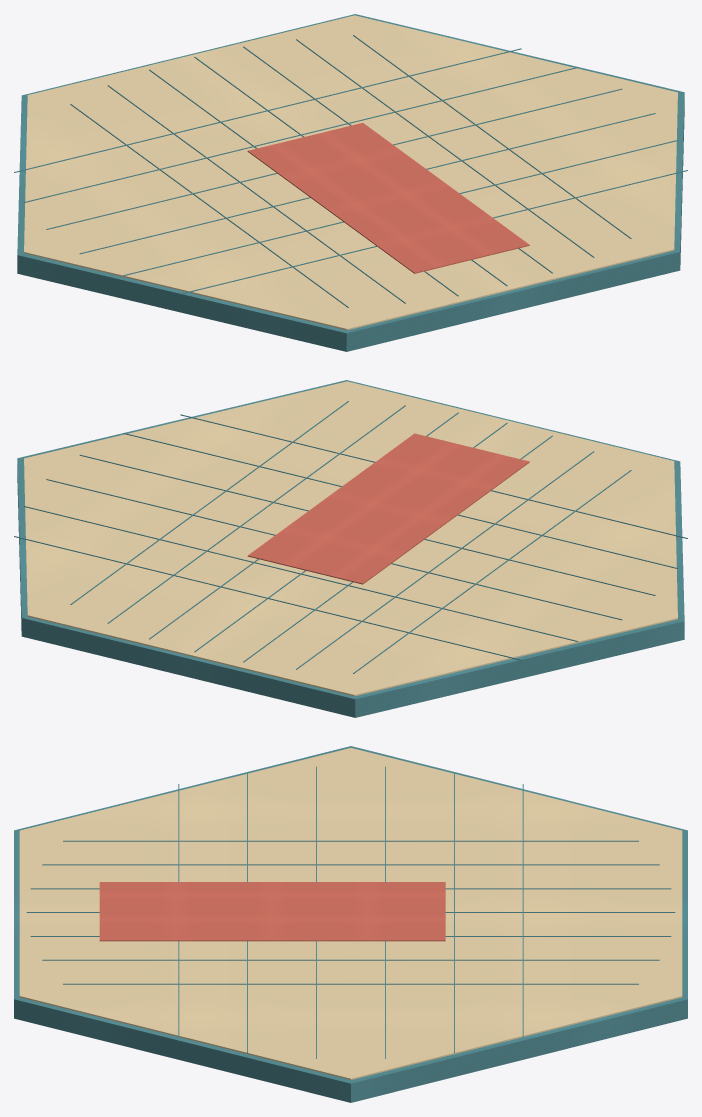
File: atlas100-s075-a07.lod2.glb
The picture shows the model from 3 angles, top to bottom: view 1: azimuth 30°, elevation 25°; view 2: azimuth 150°, elevation 25°; view 3: azimuth 270°, elevation 25°; orthographic projection. The views are drawn at different scales.
Parts seen in each view (by area): view 1: atlas100-s075-a07:part-001, atlas100-s075-a07:part-021, atlas100-s075-a07:part-000, atlas100-s075-a07:part-015, atlas100-s075-a07:part-014, atlas100-s075-a07:part-017, atlas100-s075-a07:part-016, atlas100-s075-a07:part-018, atlas100-s075-a07:part-019, atlas100-s075-a07:part-005, atlas100-s075-a07:part-009, atlas100-s075-a07:part-004 (+1 smaller); view 2: atlas100-s075-a07:part-001, atlas100-s075-a07:part-021, atlas100-s075-a07:part-000, atlas100-s075-a07:part-015, atlas100-s075-a07:part-014, atlas100-s075-a07:part-016, atlas100-s075-a07:part-017, atlas100-s075-a07:part-018, atlas100-s075-a07:part-019, atlas100-s075-a07:part-005, atlas100-s075-a07:part-009, atlas100-s075-a07:part-010 (+1 smaller); view 3: atlas100-s075-a07:part-001, atlas100-s075-a07:part-021, atlas100-s075-a07:part-000, atlas100-s075-a07:part-009, atlas100-s075-a07:part-005, atlas100-s075-a07:part-004, atlas100-s075-a07:part-010, atlas100-s075-a07:part-006.
Boxes of the visible parts, x1=… form: atlas100-s075-a07:part-001: x1=24, y1=15, x2=677, y2=330; atlas100-s075-a07:part-021: x1=247, y1=123, x2=529, y2=273; atlas100-s075-a07:part-000: x1=17, y1=14, x2=684, y2=351; atlas100-s075-a07:part-015: x1=24, y1=67, x2=578, y2=202; atlas100-s075-a07:part-014: x1=14, y1=48, x2=521, y2=172; atlas100-s075-a07:part-017: x1=79, y1=113, x2=655, y2=254; atlas100-s075-a07:part-016: x1=46, y1=88, x2=622, y2=229; atlas100-s075-a07:part-018: x1=123, y1=140, x2=677, y2=275; atlas100-s075-a07:part-019: x1=180, y1=170, x2=687, y2=294; atlas100-s075-a07:part-005: x1=107, y1=85, x2=405, y2=303; atlas100-s075-a07:part-009: x1=296, y1=39, x2=594, y2=257; atlas100-s075-a07:part-004: x1=70, y1=104, x2=348, y2=307; atlas100-s075-a07:part-001: x1=24, y1=381, x2=677, y2=696; atlas100-s075-a07:part-021: x1=247, y1=433, x2=529, y2=584; atlas100-s075-a07:part-000: x1=17, y1=380, x2=684, y2=717; atlas100-s075-a07:part-015: x1=24, y1=506, x2=578, y2=641; atlas100-s075-a07:part-014: x1=14, y1=536, x2=521, y2=660; atlas100-s075-a07:part-016: x1=46, y1=479, x2=622, y2=620; atlas100-s075-a07:part-017: x1=79, y1=454, x2=655, y2=595; atlas100-s075-a07:part-018: x1=123, y1=433, x2=677, y2=568; atlas100-s075-a07:part-019: x1=180, y1=414, x2=687, y2=538; atlas100-s075-a07:part-005: x1=296, y1=451, x2=594, y2=669; atlas100-s075-a07:part-009: x1=107, y1=405, x2=405, y2=623; atlas100-s075-a07:part-010: x1=70, y1=401, x2=348, y2=604; atlas100-s075-a07:part-001: x1=19, y1=748, x2=682, y2=1079; atlas100-s075-a07:part-021: x1=99, y1=882, x2=445, y2=941; atlas100-s075-a07:part-000: x1=14, y1=746, x2=687, y2=1102; atlas100-s075-a07:part-009: x1=42, y1=959, x2=659, y2=960; atlas100-s075-a07:part-005: x1=42, y1=864, x2=659, y2=865; atlas100-s075-a07:part-004: x1=63, y1=840, x2=638, y2=841; atlas100-s075-a07:part-010: x1=63, y1=983, x2=638, y2=984; atlas100-s075-a07:part-006: x1=30, y1=888, x2=671, y2=889.
Size of the model in its own units: 12.75 by 0.404 by 10.76.
3 materials, 3 textured.
